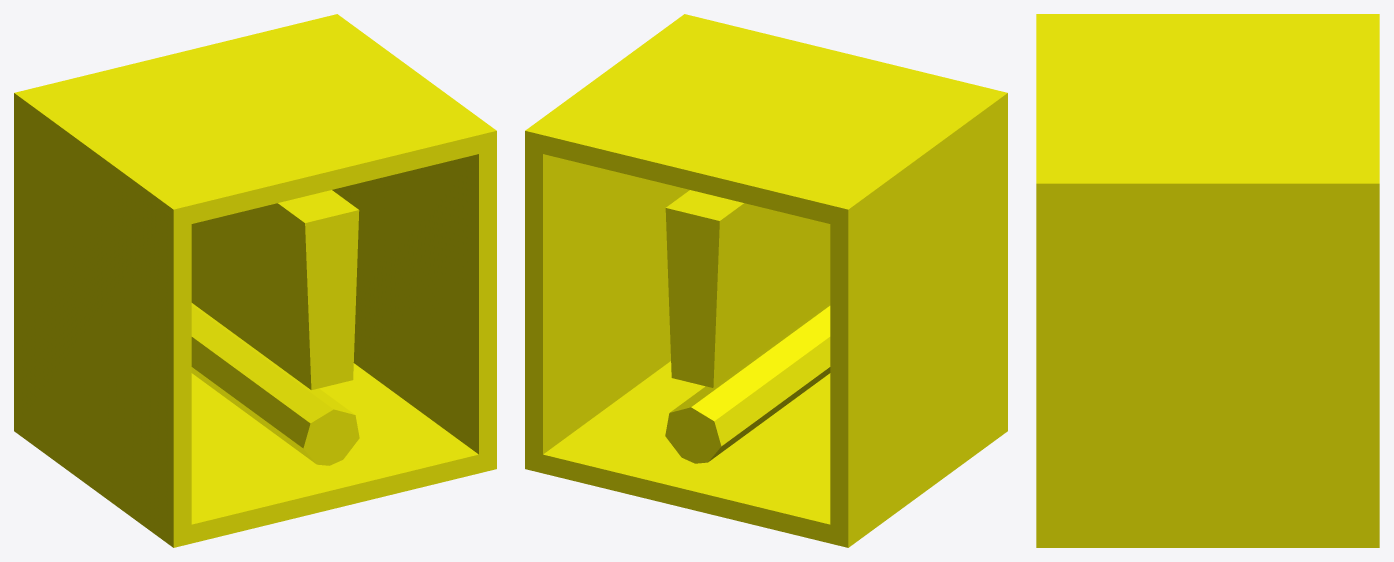
File: ExclamationHighlight.fbx
3 views of the same model, side by side, from view 1: azimuth 30°, elevation 25°; view 2: azimuth 150°, elevation 25°; view 3: azimuth 270°, elevation 25° (orthographic). The views are drawn at different scales.
Parts seen in each view (by area): view 1: ExclamationHighlight; view 2: ExclamationHighlight; view 3: ExclamationHighlight.
Boxes of the visible parts, box(x1,y1,x2,y2) form: ExclamationHighlight: box(14, 14, 496, 547); ExclamationHighlight: box(525, 14, 1007, 547); ExclamationHighlight: box(1036, 14, 1379, 547).
Size of the model in its own units: 224 by 224 by 191.
